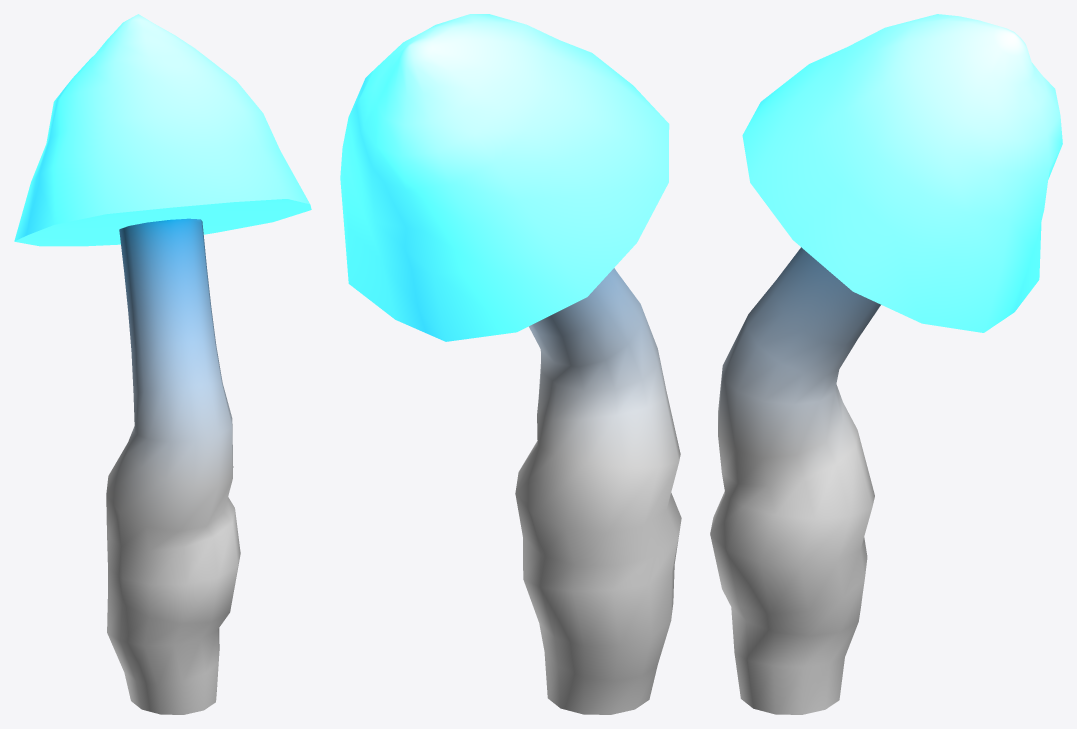
The model's file is mushroom_6.glb.
3 renders of one model, left to right at view 1: azimuth 30°, elevation 25°; view 2: azimuth 150°, elevation 25°; view 3: azimuth 270°, elevation 25°, orthographic. The views are drawn at different scales.
Parts seen in each view (by area): view 1: geo1; view 2: geo1; view 3: geo1.
Boxes of the visible parts, box(x1,y1,x2,y2) form: geo1: box(14, 14, 311, 714); geo1: box(340, 14, 681, 714); geo1: box(710, 14, 1062, 714).
Bounding box in the file's own units: 0.1693 × 0.3822 × 0.1753.
